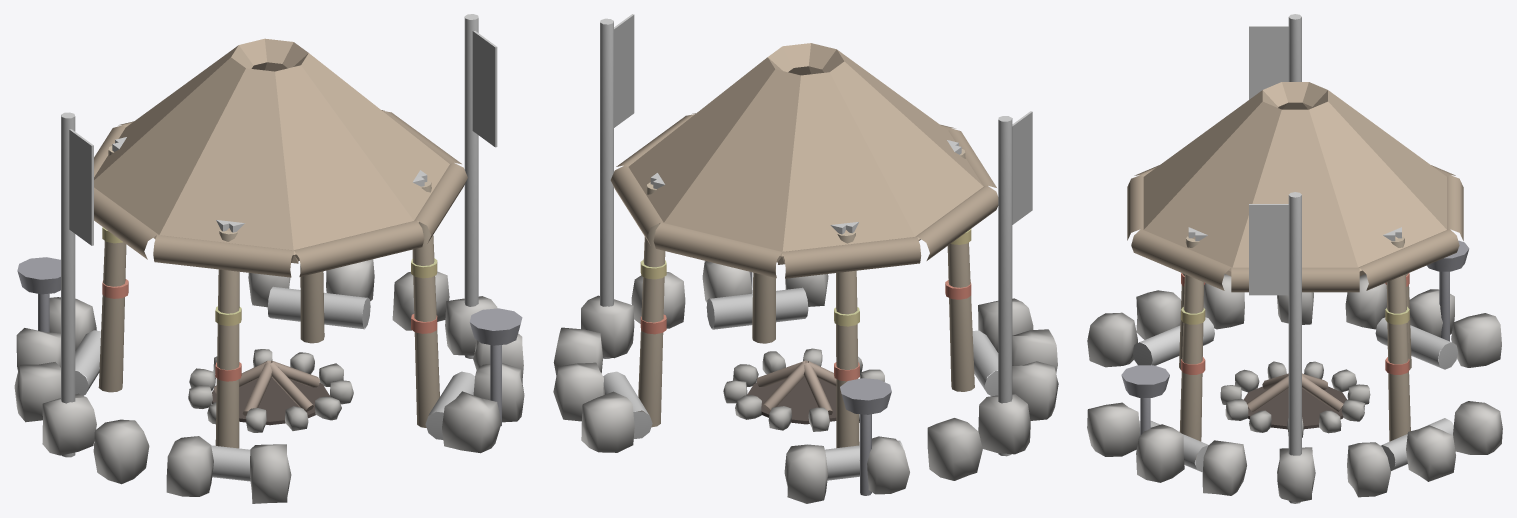
The model's file is hw_hearth_great.glb.
3 renders of one model, left to right at view 1: azimuth 30°, elevation 25°; view 2: azimuth 150°, elevation 25°; view 3: azimuth 270°, elevation 25°, orthographic. The views are drawn at different scales.
Parts seen in each view (by area): view 1: Building; view 2: Building; view 3: Building.
Part boxes in pixels (box(x1,y1,x2,y2)): Building: box(14, 14, 524, 503); Building: box(553, 14, 1058, 503); Building: box(1087, 14, 1502, 503).
Bounding box in the file's own units: 4.19 × 3.15 × 3.75.
